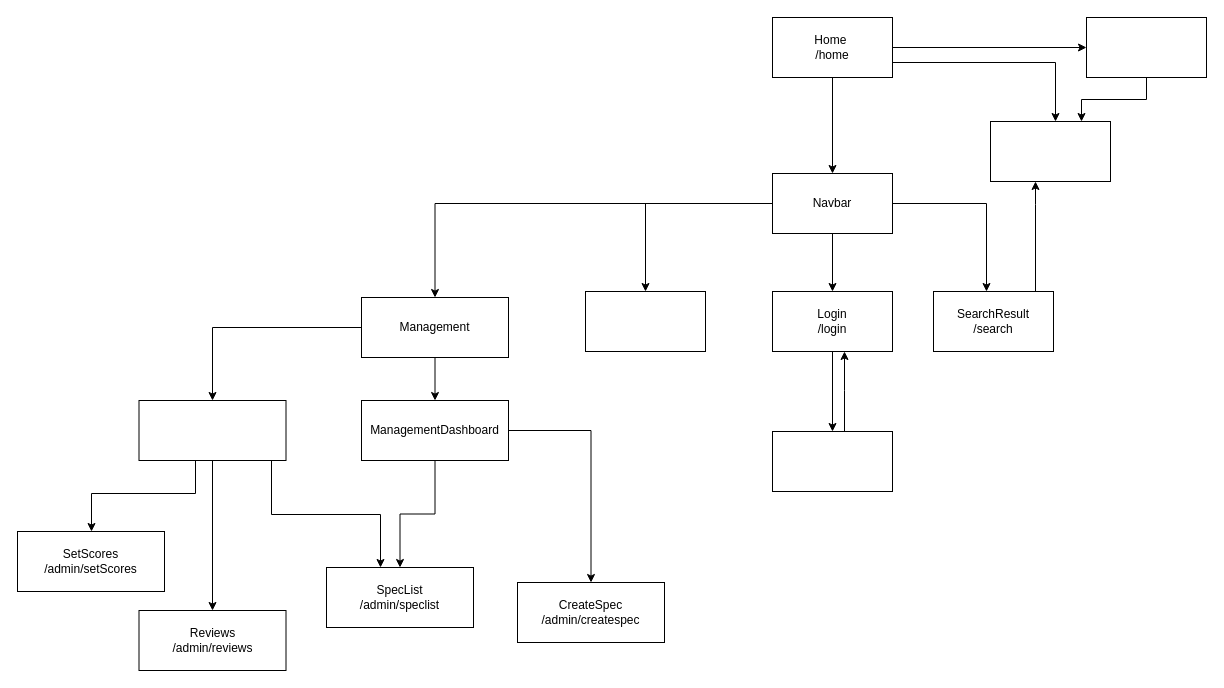
The diagram is 1224 pixels wide and 688 high, and some of its shapes have lost their labels. The box of each missing label's shape, as (x1, y1, x2, y2) in pixels:
DoraIA /dora: (1086, 16, 1206, 78)
Profile /profile: (584, 290, 706, 352)
ReviewerDashboard: (138, 400, 286, 460)
SignUp /signup: (772, 430, 892, 492)
Spec /details: (990, 120, 1110, 182)
